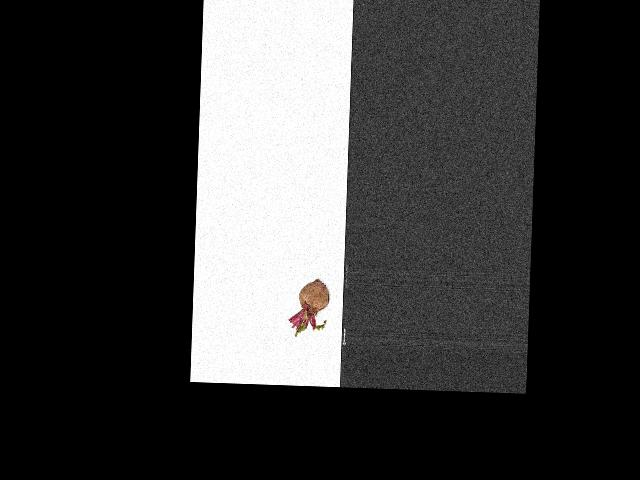beet: (287, 277, 330, 337)
